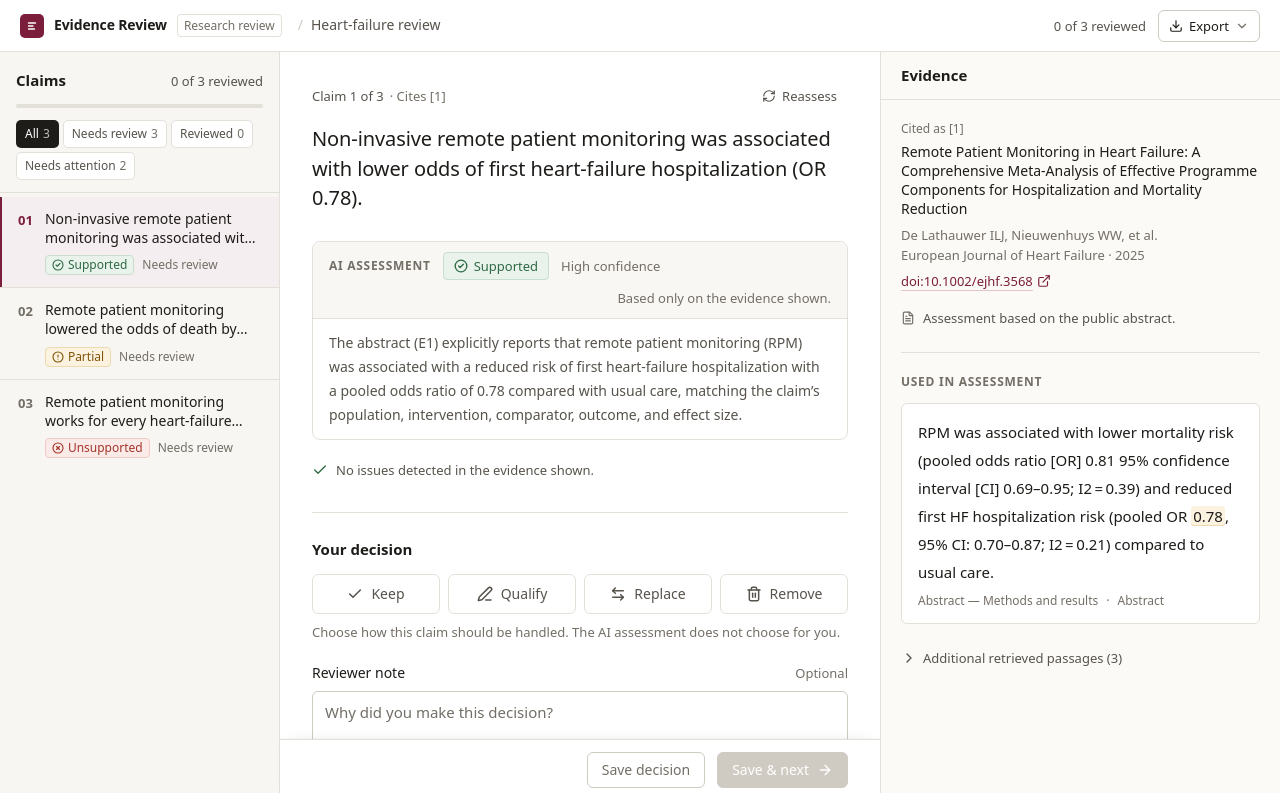
Test: Review workspace — unsaved changes › switching claims without edits needs no confirmation
Expected: the heading "Claim 1 of 3" is shown, [312, 86, 384, 106]
Click the text "Remote patient monitoring works for every heart-failure patient." at [154, 411], box [45, 392, 263, 430]
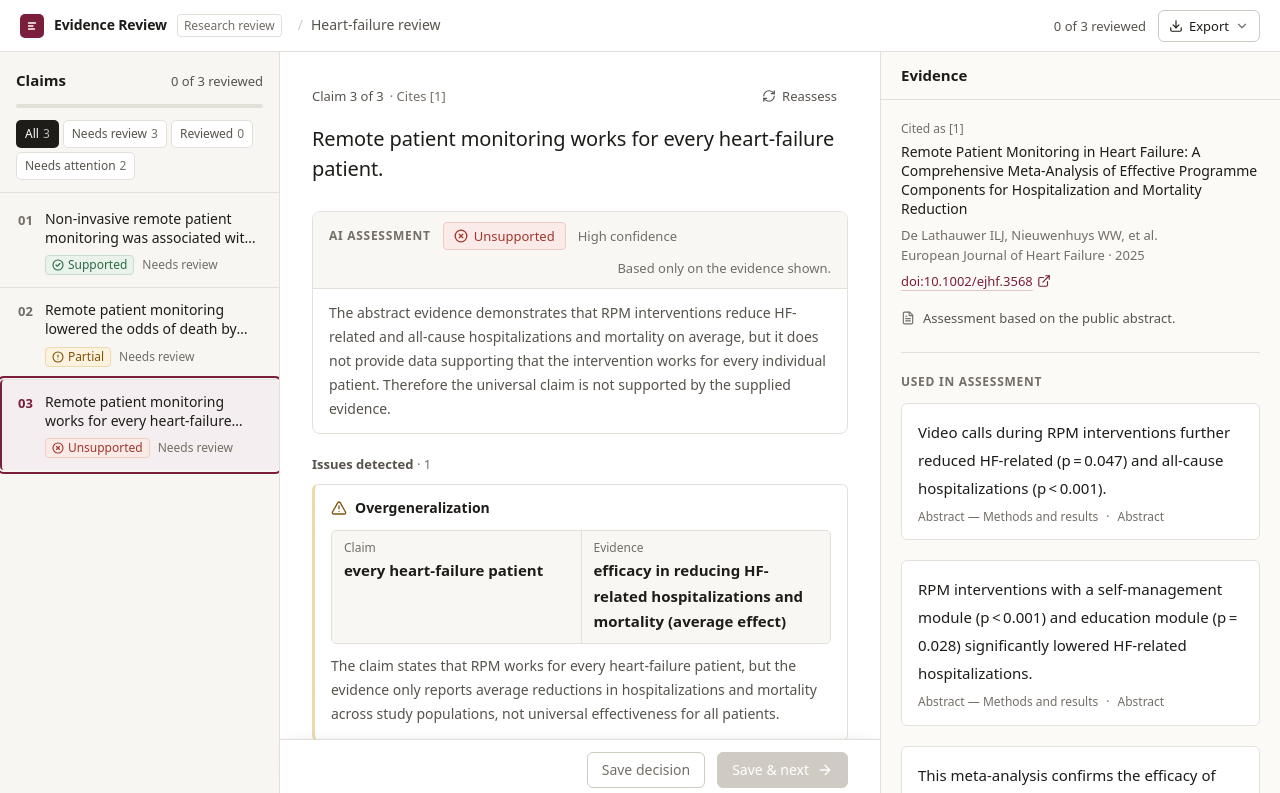
Result: the heading "Claim 3 of 3" is shown at [312, 86, 384, 106]
